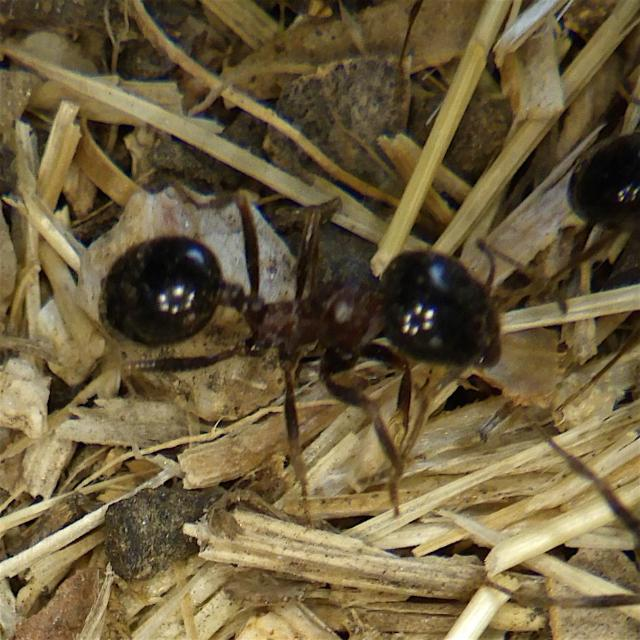Messor: (110, 204, 528, 418)
